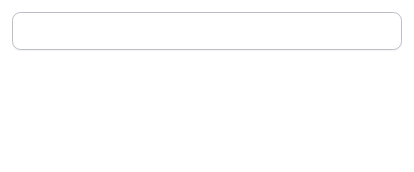
NumericInput under register() › tidies on blur what a deletion kept, in the box and in the form
Type "200" into the field named "amount".
click(207, 31); type("200")  # box [12,12,402,50]
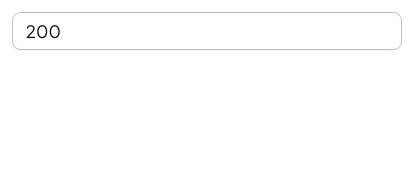
Replace the text in the field named "amount" with "00" at (207, 31), box [12,12,402,50]
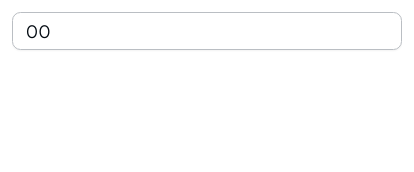
Leave the field named "amount", box [12,12,402,50]
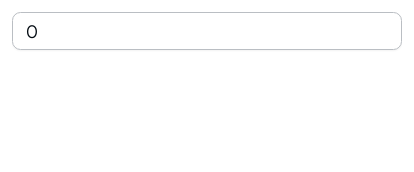
expect the field named "amount" holds "0": met, box [12,12,402,50]
